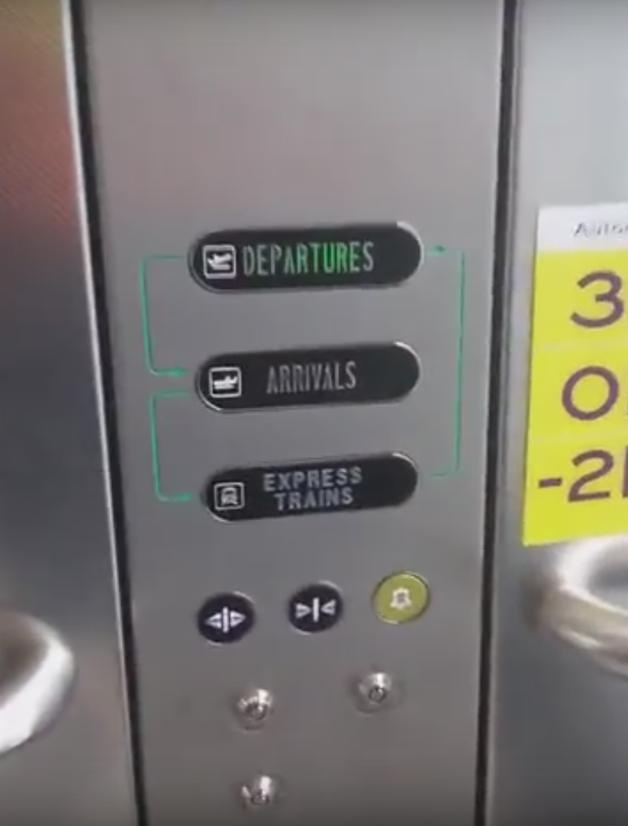alarm: (366, 566, 433, 629)
close: (282, 578, 347, 637)
keyhole: (231, 681, 280, 736), (350, 666, 400, 714), (234, 770, 284, 818)
open: (193, 587, 260, 647)
text: (191, 334, 426, 416), (182, 218, 425, 297), (199, 445, 424, 527)
